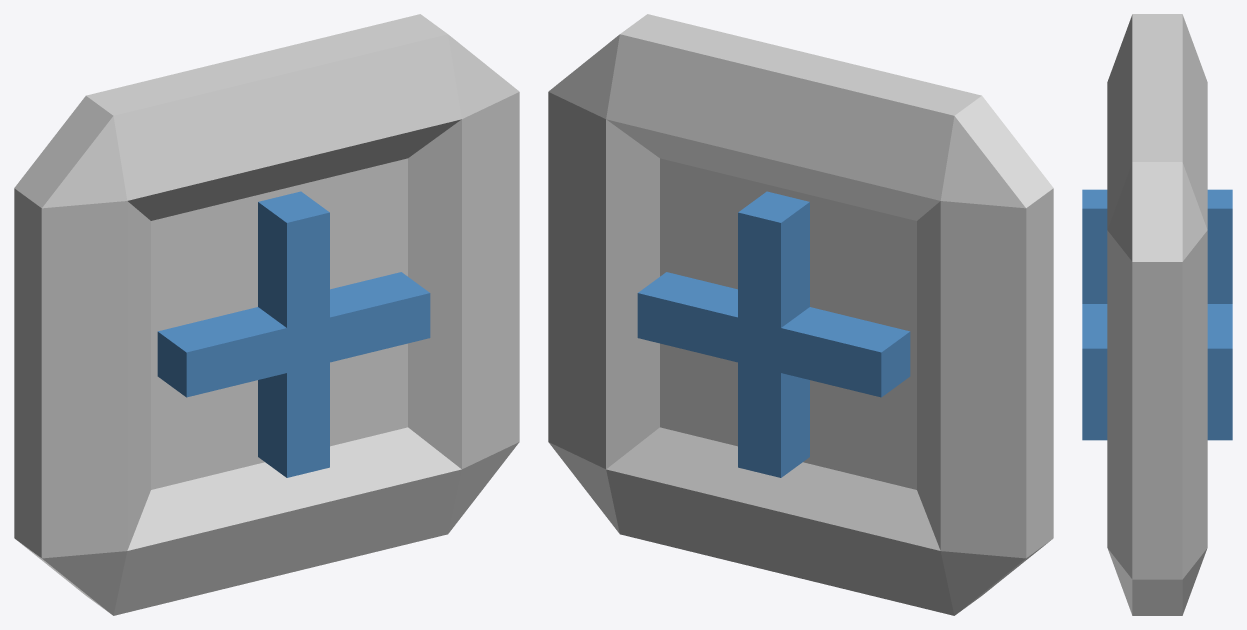
Rendered from HealthPack.fbx.
The picture shows the model from 3 angles, left to right: view 1: azimuth 30°, elevation 25°; view 2: azimuth 150°, elevation 25°; view 3: azimuth 270°, elevation 25°; orthographic projection. The views are drawn at different scales.
Visible parts, largest first — view 1: Cube.002, Cube.001; view 2: Cube.002, Cube.001; view 3: Cube.002, Cube.001.
Part boxes in pixels (box(x1,y1,x2,y2)): Cube.002: box(14, 14, 519, 615); Cube.001: box(157, 191, 430, 477); Cube.002: box(548, 14, 1053, 615); Cube.001: box(637, 191, 910, 477); Cube.002: box(1107, 14, 1207, 615); Cube.001: box(1082, 189, 1232, 440).
Bounding box in the file's own units: 200 × 200 × 60.
